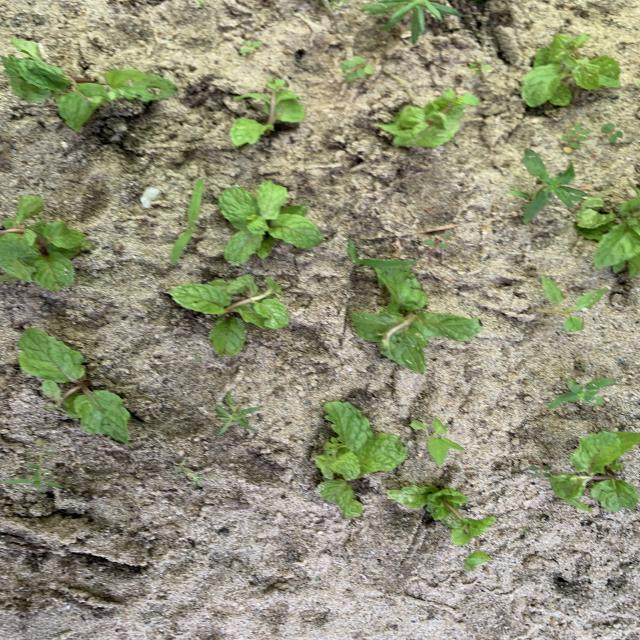crop: (2, 39, 174, 129), (351, 266, 480, 373), (19, 329, 131, 442), (316, 402, 406, 516), (171, 276, 288, 354), (387, 486, 495, 570), (219, 182, 322, 263), (1, 197, 90, 289), (550, 431, 639, 511), (523, 34, 619, 105), (376, 90, 479, 147), (576, 187, 639, 275), (229, 79, 304, 144)
weed: (511, 152, 588, 222), (533, 277, 606, 330), (362, 1, 450, 41), (170, 179, 203, 262), (410, 419, 463, 466), (550, 377, 615, 407), (348, 240, 416, 268), (216, 404, 258, 433), (341, 56, 373, 80), (561, 125, 589, 148), (602, 123, 623, 142), (27, 450, 55, 463), (529, 460, 551, 475), (239, 40, 262, 54), (469, 62, 491, 75), (424, 238, 447, 249), (520, 528, 528, 533)
